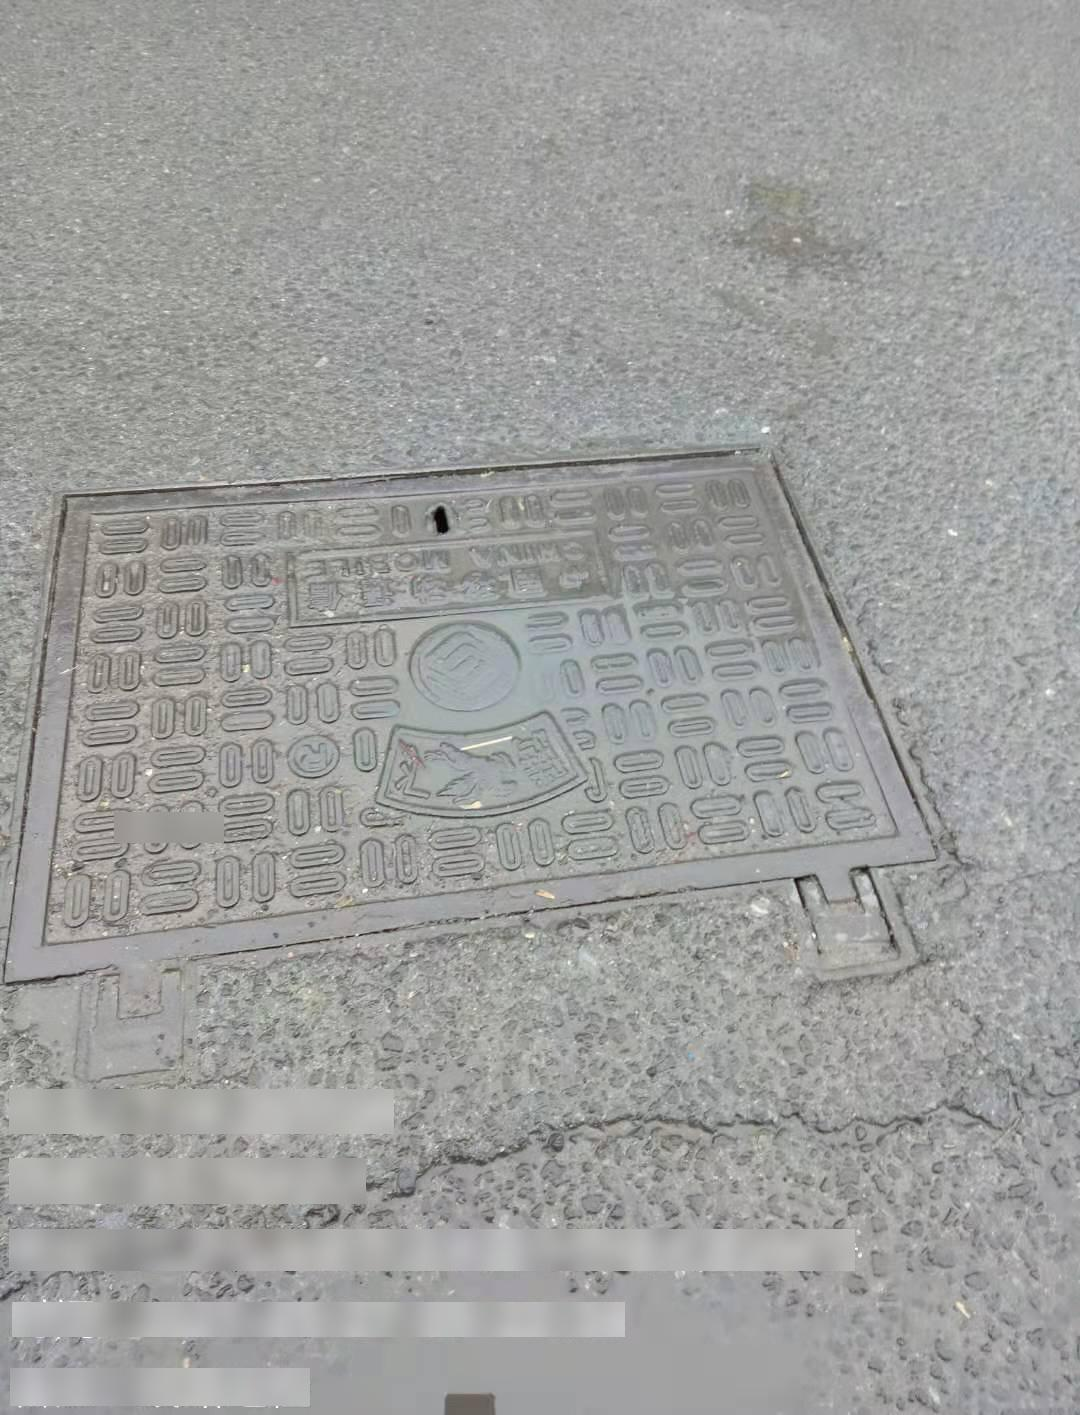wellcover: (26, 436, 935, 1017)
